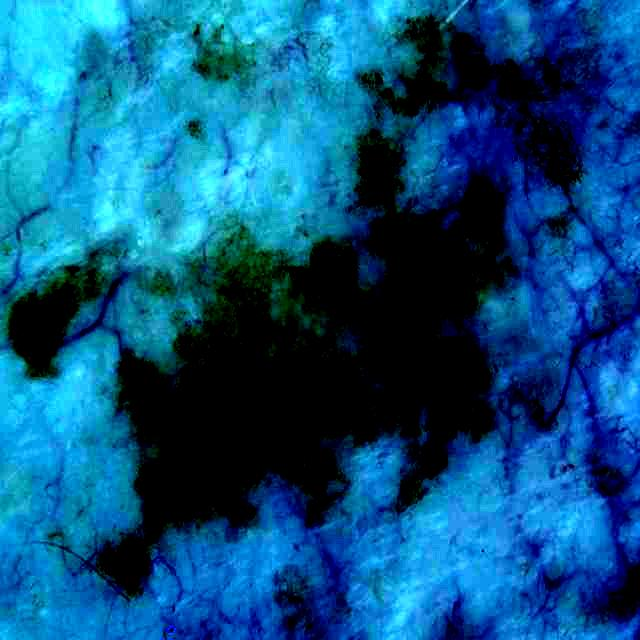BKL: (122, 185, 503, 537), (356, 3, 585, 234), (7, 243, 124, 378), (102, 540, 148, 595)
